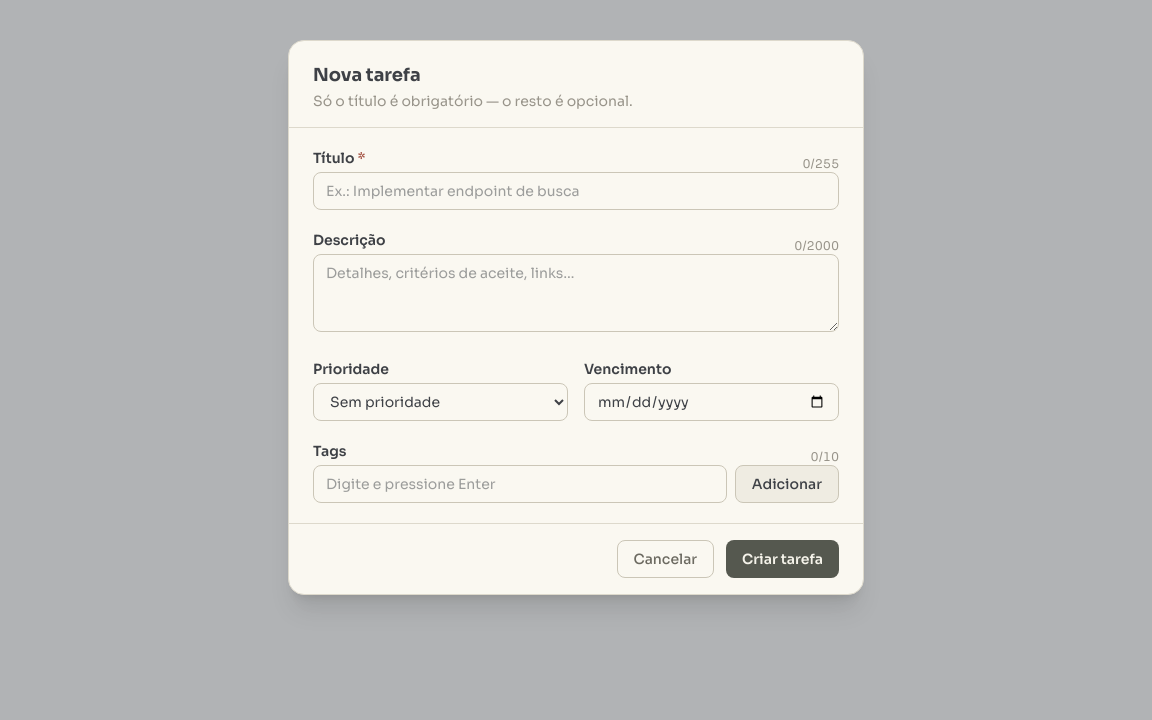
Scenario: TaskForm - tags › botão × remove a tag
The image size is (1152, 720).
Type "removivel" into the field labelled "Tags" at {"x": 520, "y": 484}, box [313,465,727,503]
Then press Enter
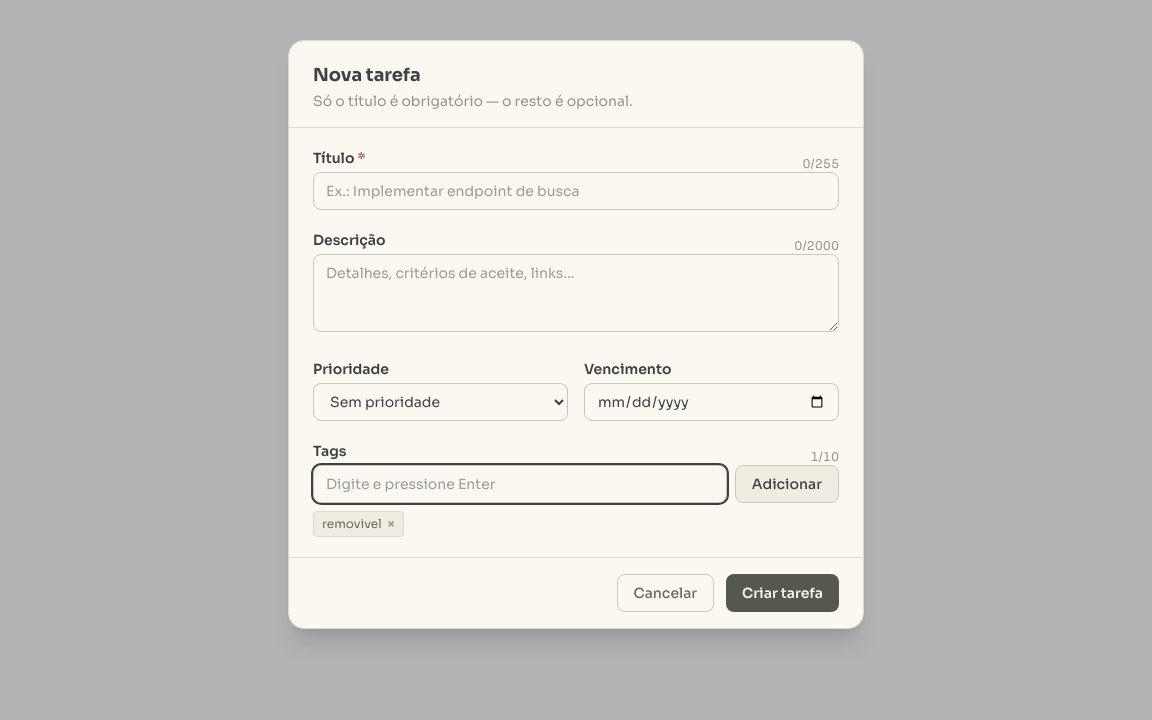
expect the text "removivel" is shown: met, box [322,516,382,531]
Click the button named "Remover tag removivel" at {"x": 391, "y": 524}, box [388,516,395,532]
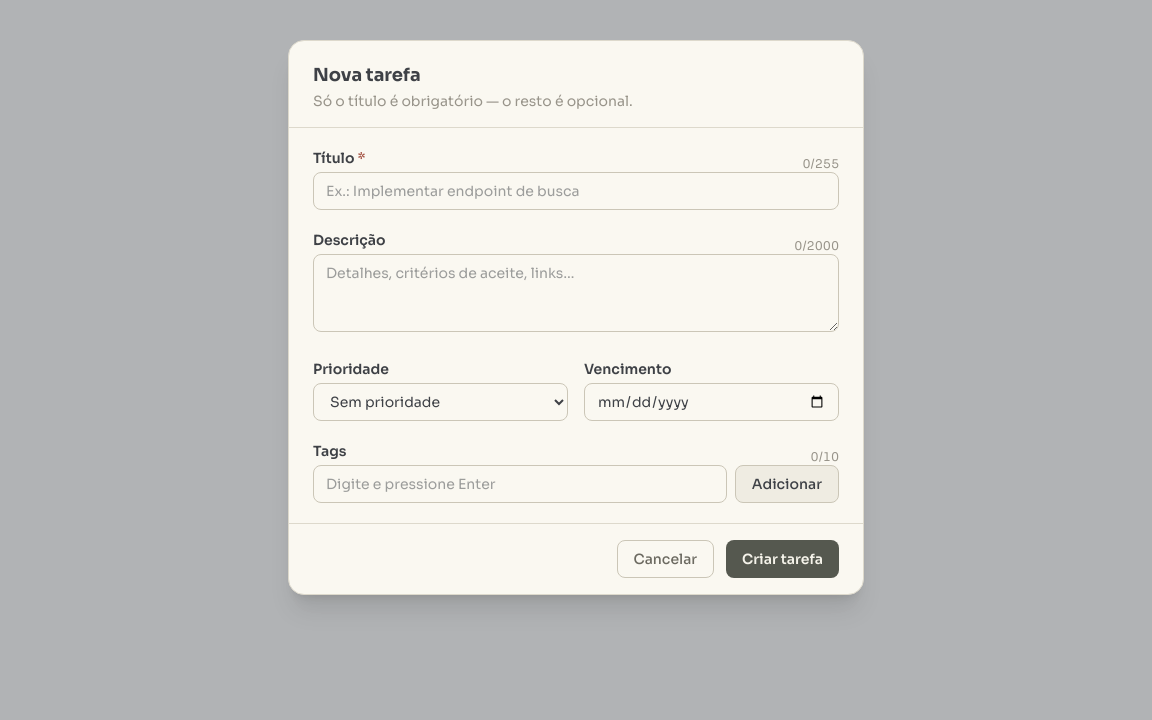
expect the text "removivel" is gone: met
